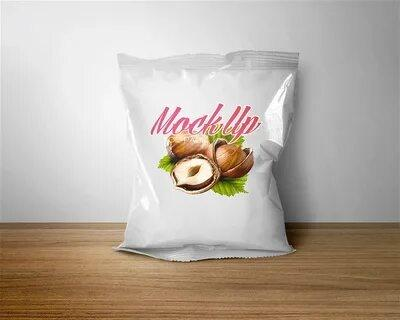snack: (111, 50, 301, 260)
